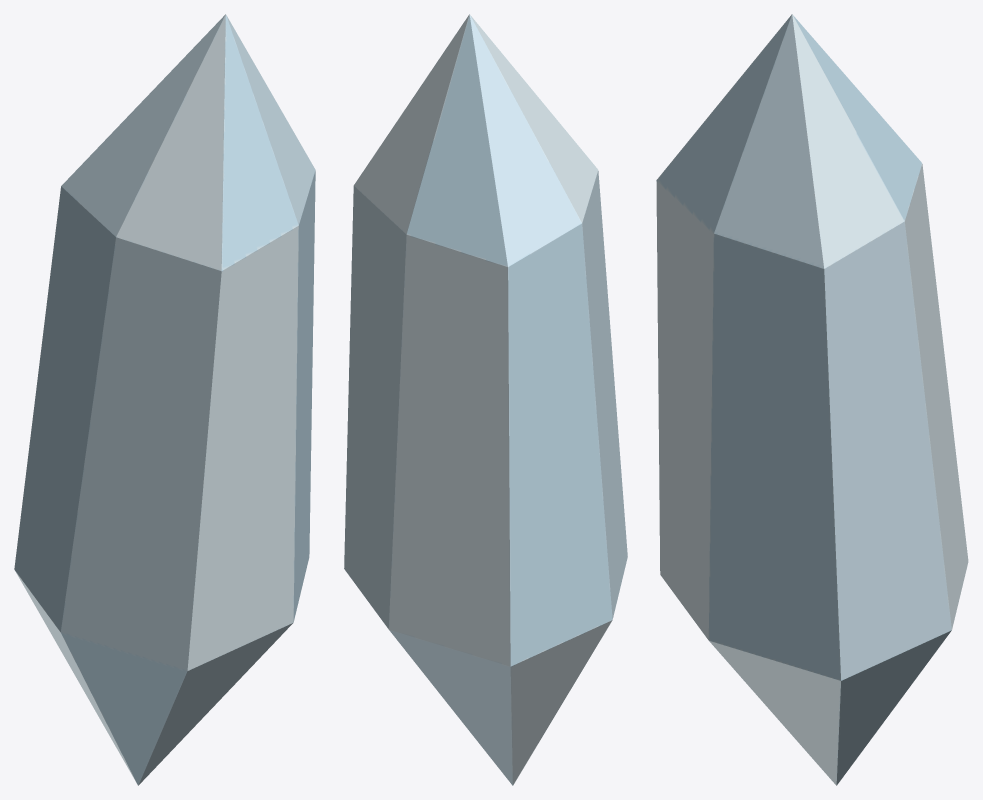
The model's file is IceChunk.fbx.
3 renders of one model, left to right at view 1: azimuth 30°, elevation 25°; view 2: azimuth 150°, elevation 25°; view 3: azimuth 270°, elevation 25°, orthographic. The views are drawn at different scales.
Visible parts, largest first — view 1: IceChunk; view 2: IceChunk; view 3: IceChunk.
Boxes of the visible parts, x1,y1,x2,y2 form: IceChunk: (14, 14, 315, 785); IceChunk: (344, 14, 627, 785); IceChunk: (656, 14, 968, 785).
Bounding box in the file's own units: 35.82 × 100 × 35.09.
1 material, 1 textured.
